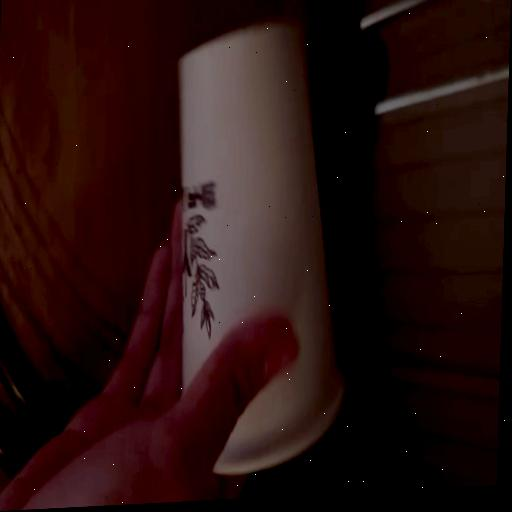Ly_giay: (179, 22, 344, 475)
